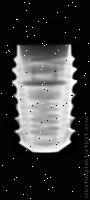Cowellmedi: (13, 44, 76, 155)
